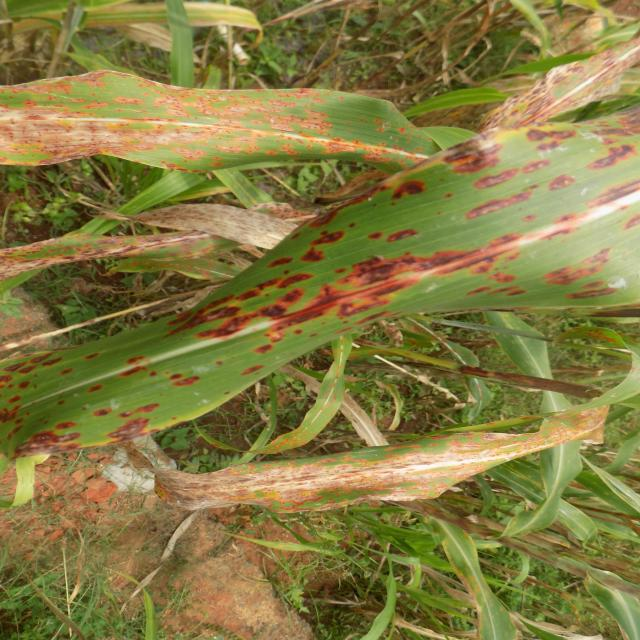millet_healthy: (474, 305, 600, 540), (570, 569, 640, 640)
millet_rust: (0, 116, 640, 462), (0, 68, 582, 178), (102, 412, 640, 509), (7, 202, 402, 278), (34, 169, 375, 248), (456, 30, 640, 159), (276, 356, 396, 464), (0, 0, 279, 41), (436, 525, 530, 640)
